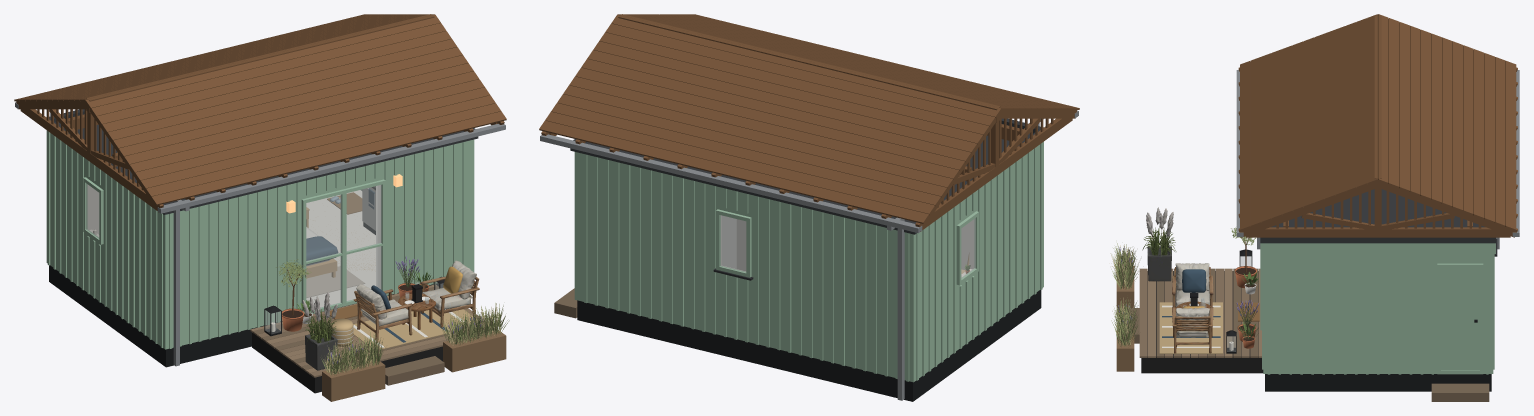
File: sirius24.glb
3 views of the same model, side by side, from view 1: azimuth 30°, elevation 25°; view 2: azimuth 150°, elevation 25°; view 3: azimuth 270°, elevation 25° (orthographic). The views are drawn at different scales.
Parts seen in each view (by area): view 1: Couverture bois, Coque, Couvre-joints, Vitrages, Charpente, Déco terrasse · bois, Soubassement, Menuiseries, Gouttière avant, Déco terrasse · graminee, Déco terrasse · jute, Terrasse lames 1 (+19 smaller); view 2: Couverture bois, Coque, Couvre-joints, Soubassement, Charpente, Gouttière arrière, Couvertine, Vitrages dépolis, Menuiseries, Coque (toit), Descente arrière, Couvre-joints (toit) (+3 smaller); view 3: Couverture bois, Coque, Charpente, Couvre-joints, Menuiseries, Couvertine, Soubassement, Terrasse ossature, Terrasse lames 1, Terrasse lames 0, Terrasse lames 2, Déco terrasse · jute (+14 smaller).
Part boxes in pixels (x1=…): Couverture bois: x1=14, y1=14, x2=506, y2=205; Coque: x1=46, y1=133, x2=474, y2=349; Couvre-joints: x1=47, y1=134, x2=465, y2=348; Vitrages: x1=306, y1=185, x2=381, y2=307; Charpente: x1=16, y1=14, x2=504, y2=212; Déco terrasse · bois: x1=322, y1=330, x2=506, y2=401; Soubassement: x1=49, y1=265, x2=471, y2=367; Menuiseries: x1=83, y1=177, x2=385, y2=313; Gouttière avant: x1=157, y1=123, x2=505, y2=213; Déco terrasse · graminee: x1=321, y1=303, x2=509, y2=375; Déco terrasse · jute: x1=330, y1=308, x2=481, y2=349; Terrasse lames 1: x1=253, y1=286, x2=483, y2=385; Couverture bois: x1=539, y1=14, x2=1079, y2=223; Coque: x1=574, y1=144, x2=1043, y2=382; Couvre-joints: x1=584, y1=146, x2=1042, y2=381; Soubassement: x1=577, y1=290, x2=1041, y2=401; Charpente: x1=541, y1=14, x2=1077, y2=231; Gouttière arrière: x1=540, y1=134, x2=922, y2=233; Couvertine: x1=570, y1=118, x2=1043, y2=234; Vitrages dépolis: x1=720, y1=215, x2=975, y2=278; Menuiseries: x1=716, y1=209, x2=978, y2=285; Coque (toit): x1=574, y1=141, x2=1043, y2=239; Descente arrière: x1=897, y1=219, x2=904, y2=400; Couvre-joints (toit): x1=584, y1=142, x2=1042, y2=238; Couverture bois: x1=1240, y1=14, x2=1516, y2=230; Coque: x1=1263, y1=248, x2=1493, y2=373; Charpente: x1=1238, y1=15, x2=1517, y2=237; Couvre-joints: x1=1262, y1=243, x2=1494, y2=374; Menuiseries: x1=1260, y1=243, x2=1495, y2=374; Couvertine: x1=1260, y1=189, x2=1495, y2=243; Soubassement: x1=1265, y1=374, x2=1491, y2=391; Terrasse ossature: x1=1141, y1=271, x2=1263, y2=373; Terrasse lames 1: x1=1122, y1=268, x2=1258, y2=357; Terrasse lames 0: x1=1139, y1=268, x2=1249, y2=357; Terrasse lames 2: x1=1148, y1=268, x2=1261, y2=357; Déco terrasse · jute: x1=1159, y1=302, x2=1222, y2=353.
Bounding box in the file's own units: 6.8 × 4.27 × 7.15.
93 materials, 10 textured.
